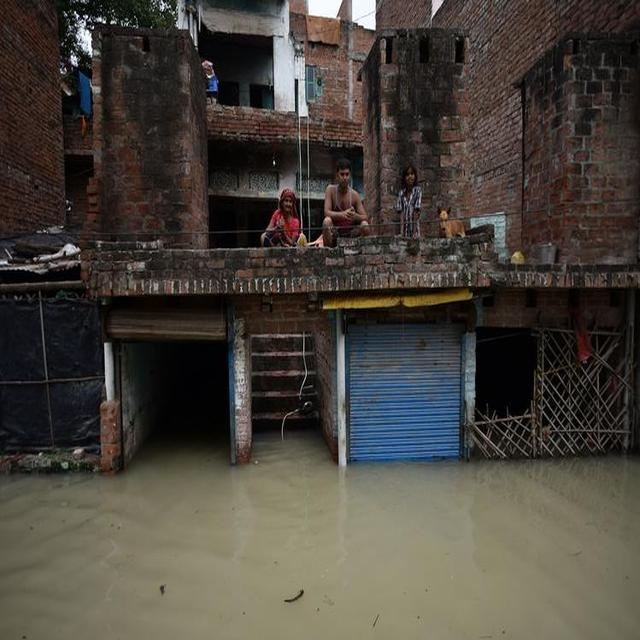Person-RiskLevel1: (324, 160, 370, 241), (393, 163, 439, 243), (256, 187, 310, 249)
